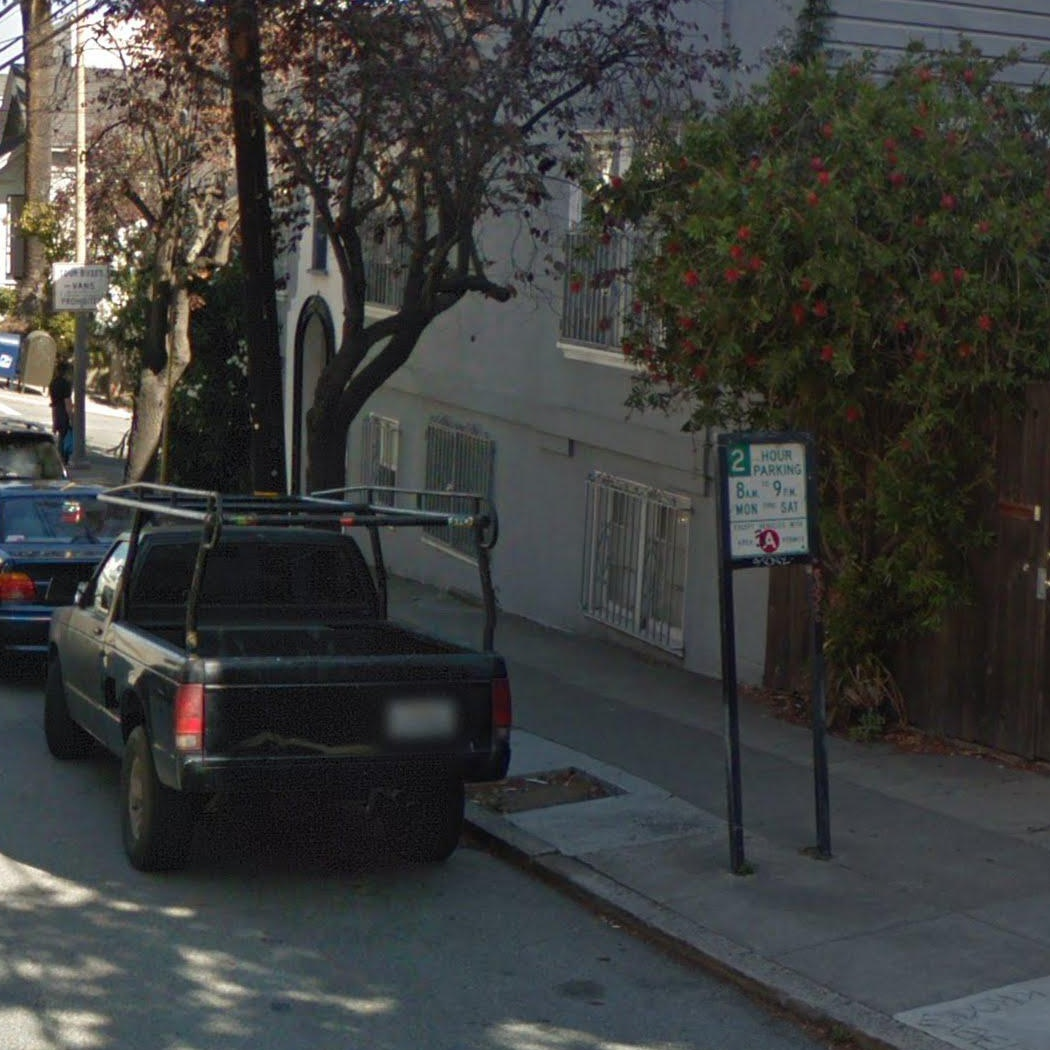2 Hour Parking: (723, 439, 809, 560)
